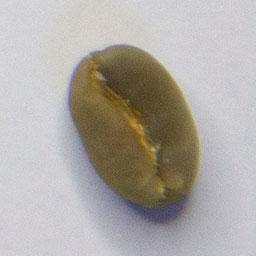premium: (66, 42, 204, 211)
